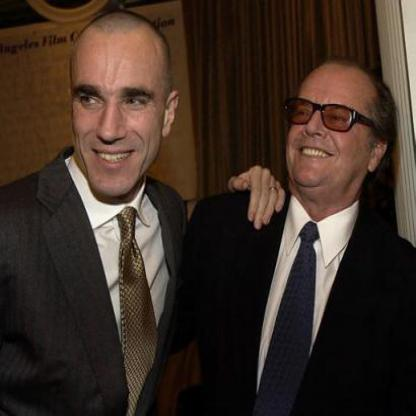face: (57, 14, 138, 253), (230, 74, 309, 251)
